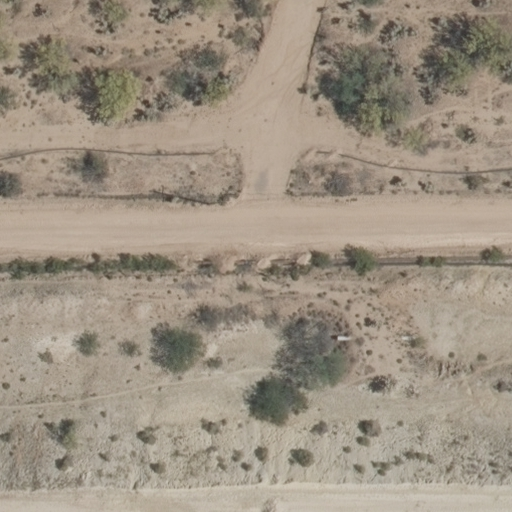DT: (197, 193, 230, 211)
